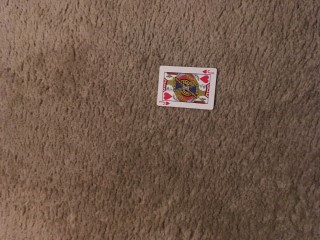JackOfHearts: (155, 66, 217, 109)
